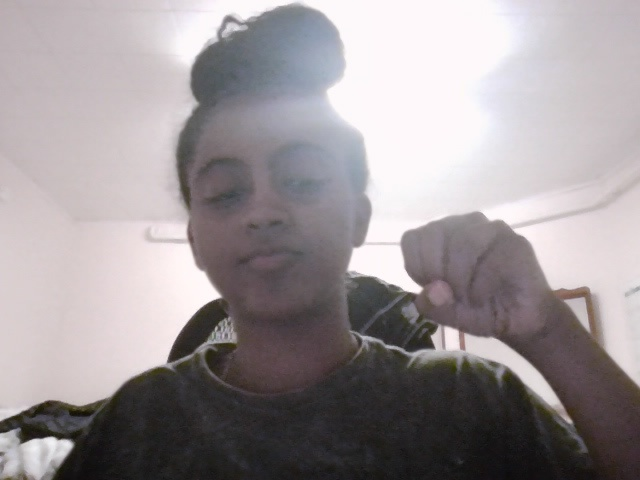Yes: (388, 205, 558, 344)
